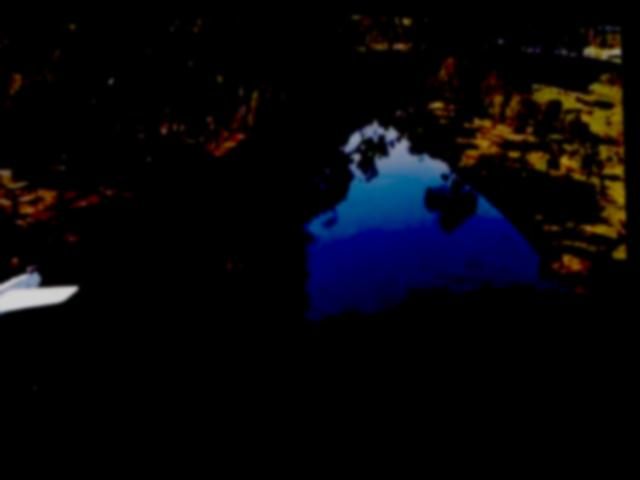iha: (0, 257, 95, 363)
